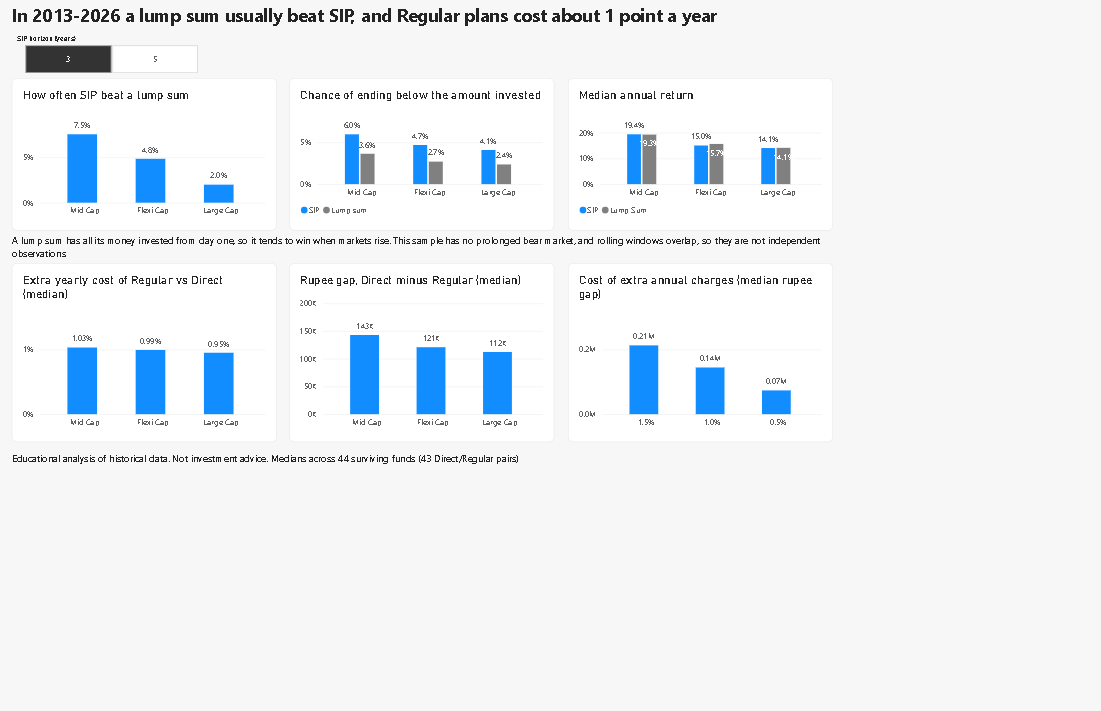

The page's visual inventory and layout, read from the dashboard file:
{"tool":"powerbi","page":{"name":"SIP and cost","canvas":[1920,1080],"ordinal":2},"visuals":[{"type":"slicer","fields":{"Values":["fact_sip_summary.horizon_years"]},"box":[20,55,300,60],"z":0},{"type":"clusteredColumnChart","title":"How often SIP beat a lump sum","fields":{"Category":["fact_sip_summary.category"],"Y":["Avg(fact_sip_summary.pct_sip_beats_lump)"]},"box":[20,120,400,230],"z":1},{"type":"clusteredColumnChart","title":"Chance of ending below the amount invested","fields":{"Category":["fact_sip_summary.category"],"Y":["Avg(fact_sip_summary.pct_sip_loss)","Avg(fact_sip_summary.pct_lump_loss)"]},"box":[440,120,400,230],"z":2},{"type":"clusteredColumnChart","title":"Median annual return","fields":{"Category":["fact_sip_summary.category"],"Y":["Avg(fact_sip_summary.median_sip_xirr)","Avg(fact_sip_summary.median_lump_cagr)"]},"box":[860,120,400,230],"z":3},{"type":"clusteredColumnChart","title":"Extra yearly cost of Regular vs Direct (median)","fields":{"Category":["fact_expense_realised.category"],"Y":["Median(fact_expense_realised.annual_drag)"]},"box":[20,400,400,270],"z":4},{"type":"clusteredColumnChart","title":"Rupee gap, Direct minus Regular (median)","fields":{"Category":["fact_expense_realised.category"],"Y":["Median(fact_expense_realised.rupee_gap)"]},"box":[440,400,400,270],"z":5},{"type":"clusteredColumnChart","title":"Cost of extra annual charges (median rupee gap)","fields":{"Category":["fact_expense_sensitivity.extra_annual_cost"],"Y":["Median(fact_expense_sensitivity.rupee_gap)"]},"box":[860,400,400,270],"z":6},{"type":"textbox","box":[20,8,1240,45],"z":7},{"type":"textbox","box":[20.8,354.7,1239.6,45.3],"z":8},{"type":"textbox","box":[20,685,1240,25],"z":9}]}

Visuals, with their boxes on the page's 1920x1080 design canvas (x1, y1, x2, y2). These are canvas units, not pixel positions in the 1101x711 screenshot, which may show the page scaled, cropped or inside an application window:
slicer - fact_sip_summary.horizon_years: x1=20 y1=55 x2=320 y2=115
"How often SIP beat a lump sum" clusteredColumnChart: x1=20 y1=120 x2=420 y2=350
"Chance of ending below the amount invested" clusteredColumnChart: x1=440 y1=120 x2=840 y2=350
"Median annual return" clusteredColumnChart: x1=860 y1=120 x2=1260 y2=350
"Extra yearly cost of Regular vs Direct (median)" clusteredColumnChart: x1=20 y1=400 x2=420 y2=670
"Rupee gap, Direct minus Regular (median)" clusteredColumnChart: x1=440 y1=400 x2=840 y2=670
"Cost of extra annual charges (median rupee gap)" clusteredColumnChart: x1=860 y1=400 x2=1260 y2=670
textbox: x1=20 y1=8 x2=1260 y2=53
textbox: x1=21 y1=355 x2=1260 y2=400
textbox: x1=20 y1=685 x2=1260 y2=710
